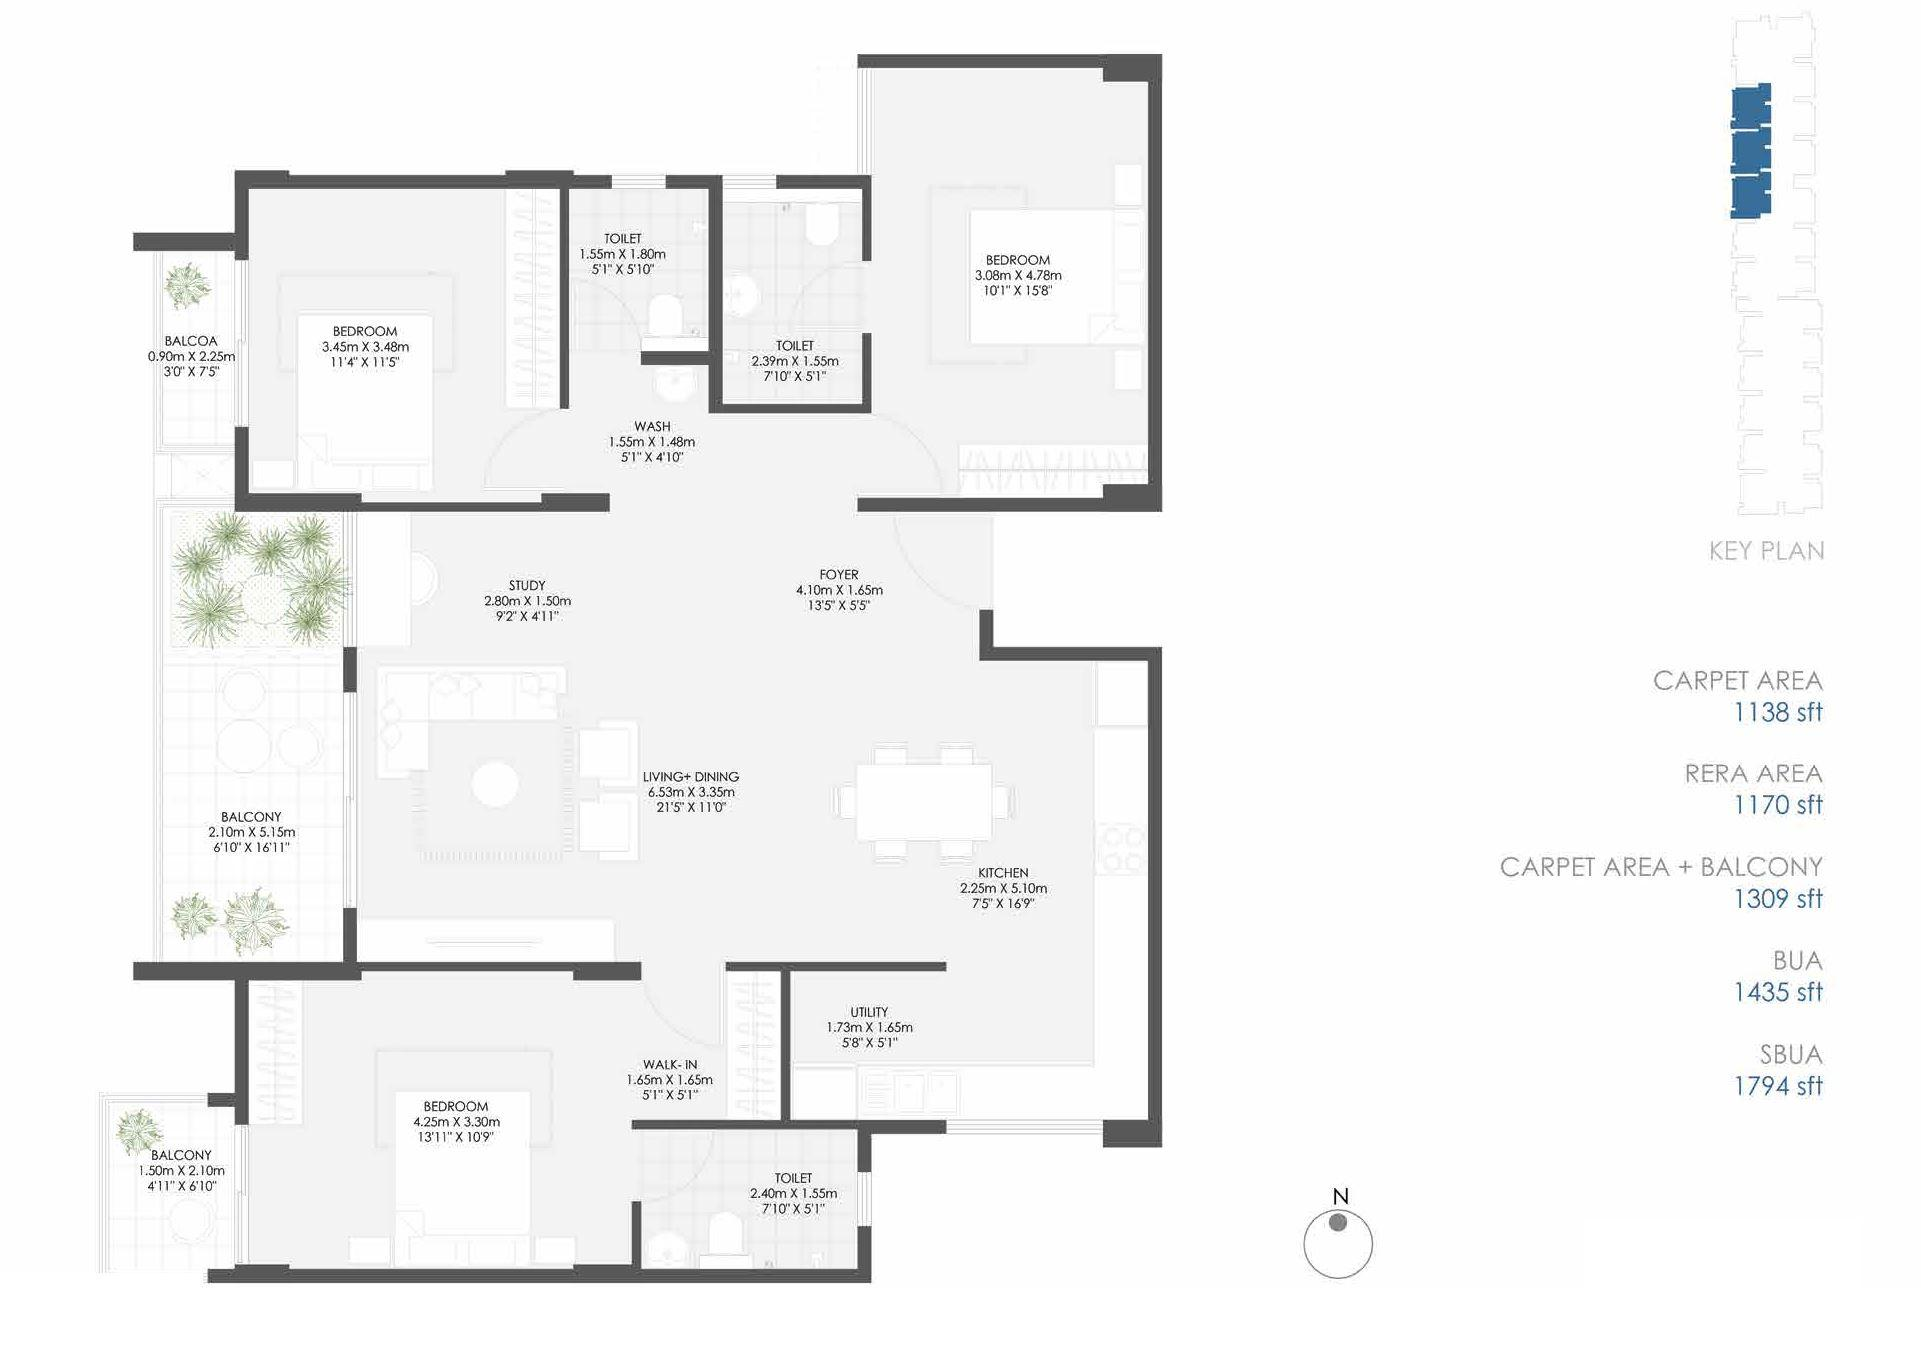Balcony: (159, 509, 341, 961)
Bed: (292, 310, 435, 502), (392, 1092, 530, 1268), (971, 210, 1148, 345)
Bedroom: (868, 72, 1145, 493), (246, 979, 629, 1268), (243, 187, 553, 500)
Dining Room: (701, 661, 1008, 954)
Dining table: (823, 735, 1011, 872)
Foyer: (611, 514, 986, 650)
Kitchen: (947, 666, 1145, 1123)
Living Room: (344, 663, 701, 961)
Sofa: (376, 670, 565, 723), (376, 670, 429, 776), (577, 793, 642, 864), (577, 723, 634, 784)
Wardrobe: (503, 187, 559, 406), (960, 440, 1146, 495), (727, 970, 782, 1123), (248, 982, 302, 1131)
balcoa: (108, 1095, 233, 1277), (159, 247, 236, 452)
commode: (807, 198, 842, 247), (714, 1212, 745, 1259), (651, 300, 683, 334)
door: (888, 518, 990, 614), (567, 269, 661, 371), (475, 404, 578, 492), (859, 404, 950, 500), (785, 257, 878, 350), (329, 681, 366, 909), (618, 1123, 717, 1206), (629, 965, 724, 1048), (226, 1119, 261, 1268)
fridge: (1093, 663, 1146, 729)
kitchen-slab: (1092, 729, 1143, 1120), (859, 1066, 1149, 1122)
sink: (859, 1069, 947, 1117), (719, 270, 760, 322), (640, 1230, 686, 1268), (651, 375, 696, 407)
stove: (1092, 821, 1151, 884)
study: (351, 515, 636, 657)
toilet: (713, 183, 868, 403), (639, 1126, 860, 1270), (570, 187, 708, 350)
tv: (413, 927, 555, 954)
utility: (788, 968, 947, 1120)
wash: (570, 368, 713, 506)
washing-machine: (789, 1064, 857, 1122)
